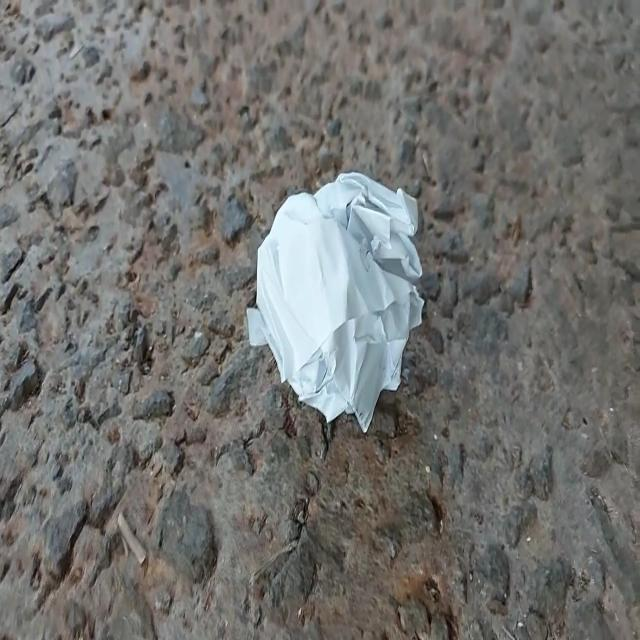Paper: (232, 153, 434, 440)
